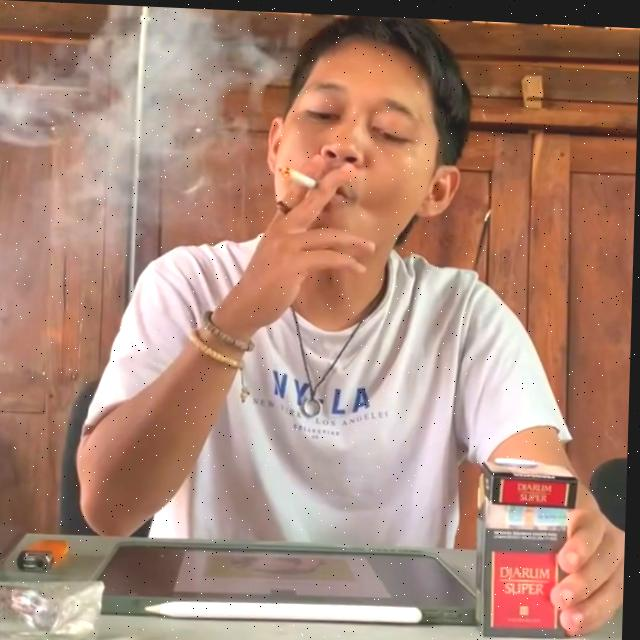cigarette: (278, 163, 318, 186)
